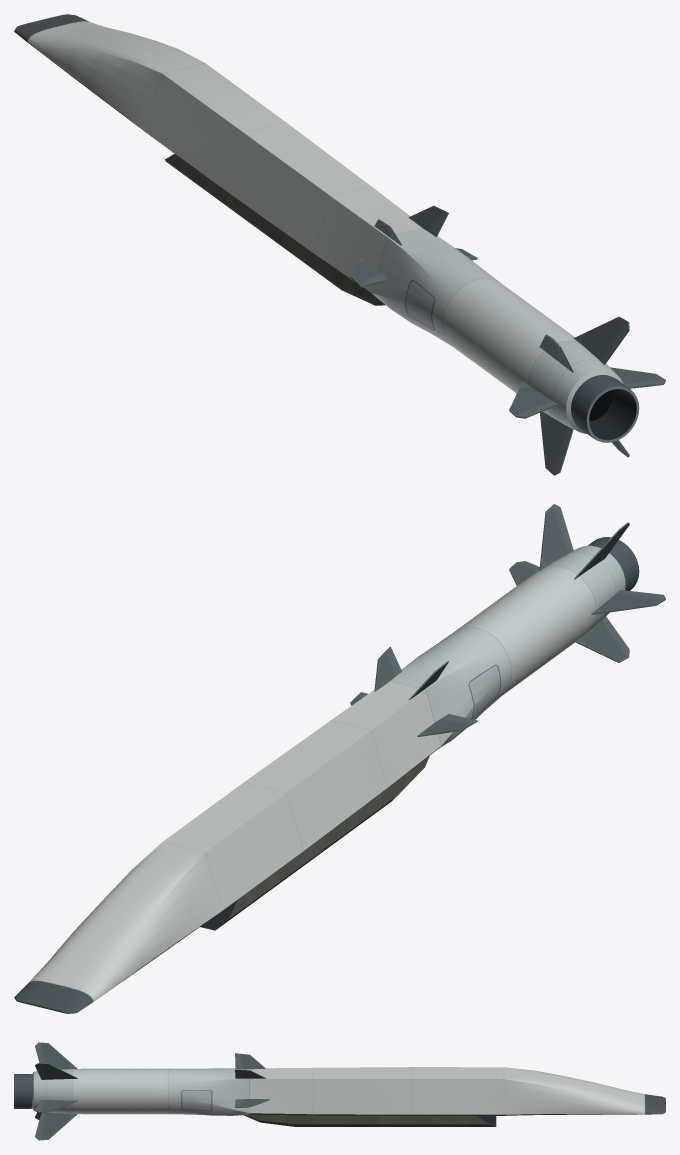
File: zircon.obj
3 renders of one model, top to bottom at view 1: azimuth 30°, elevation 25°; view 2: azimuth 150°, elevation 25°; view 3: azimuth 270°, elevation 25°, orthographic. The views are drawn at different scales.
Parts seen in each view (by area): view 1: Zircon; view 2: Zircon; view 3: Zircon.
Boxes of the visible parts, x1=… form: Zircon: x1=14, y1=14, x2=665, y2=475; Zircon: x1=14, y1=504, x2=665, y2=1013; Zircon: x1=14, y1=1042, x2=665, y2=1140.
Bounding box in the file's own units: 1.51 × 1.31 × 10.
Materials: 1 (1 with a texture image).
